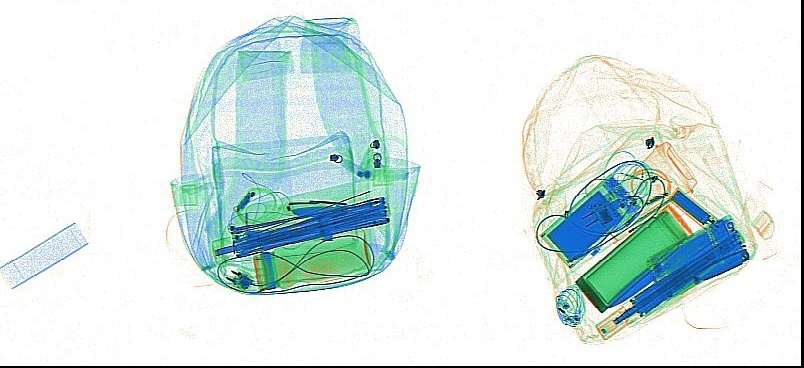knife: (607, 261, 670, 307), (692, 248, 748, 284)
